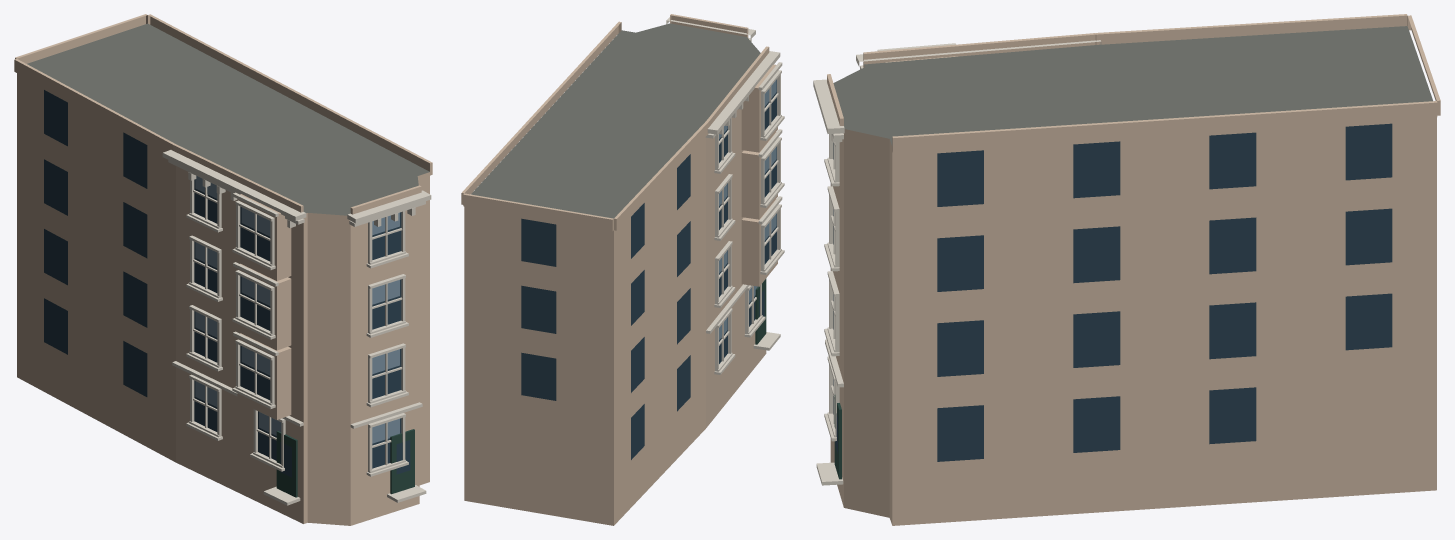
3 views of the same model, side by side, from view 1: azimuth 30°, elevation 25°; view 2: azimuth 150°, elevation 25°; view 3: azimuth 270°, elevation 25° (orthographic). The views are drawn at different scales.
Parts seen in each view (by area): view 1: Footprint 0 / surface 2, Footprint 0 / surface 1, Cornices and window frames, Inset glazing, Facade bay volumes, Sky reflection panels, Storefronts and doors; view 2: Footprint 0 / surface 2, Footprint 0 / surface 1, Inset glazing, Facade bay volumes, Cornices and window frames, Sky reflection panels, Storefronts and doors; view 3: Footprint 0 / surface 2, Footprint 0 / surface 1, Inset glazing, Facade bay volumes, Cornices and window frames.
Part boxes in pixels (x1,y1,x2,y2): Footprint 0 / surface 2: [17, 73, 429, 525]; Footprint 0 / surface 1: [27, 23, 429, 215]; Cornices and window frames: [162, 150, 431, 505]; Inset glazing: [44, 90, 410, 477]; Facade bay volumes: [14, 14, 432, 419]; Sky reflection panels: [195, 176, 399, 443]; Storefronts and doors: [276, 429, 414, 497]; Footprint 0 / surface 2: [464, 109, 766, 525]; Footprint 0 / surface 1: [471, 23, 760, 218]; Inset glazing: [521, 79, 776, 459]; Facade bay volumes: [461, 14, 777, 286]; Cornices and window frames: [666, 17, 784, 374]; Sky reflection panels: [719, 80, 776, 340]; Storefronts and doors: [755, 278, 766, 344]; Footprint 0 / surface 2: [830, 65, 1436, 525]; Footprint 0 / surface 1: [833, 26, 1432, 145]; Inset glazing: [833, 123, 1392, 461]; Facade bay volumes: [827, 14, 1440, 152]; Cornices and window frames: [813, 40, 1101, 485].
Bounding box in the file's own units: 8.98 × 13.13 × 19.17.
